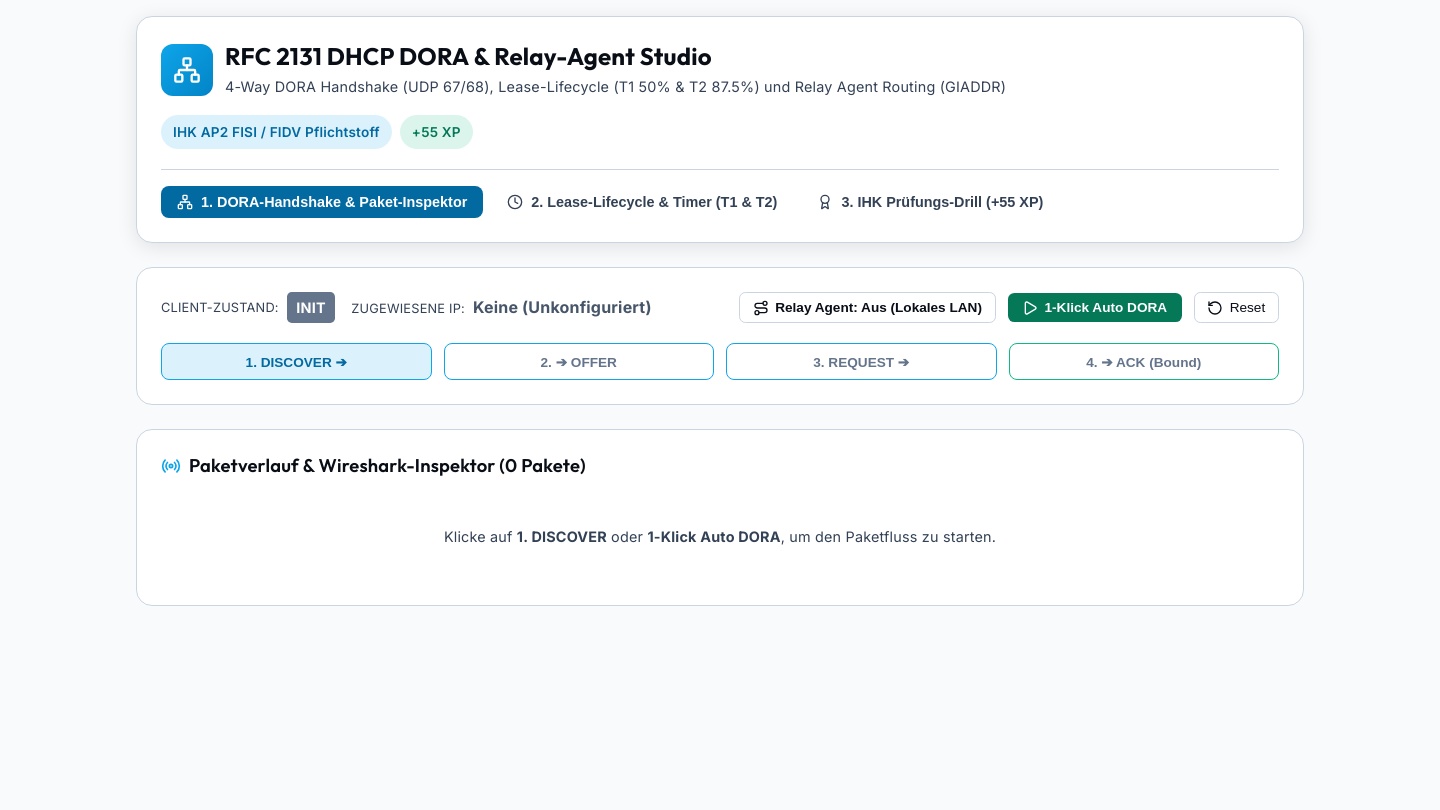
DhcpDoraLab: DORA-Handshake › vergibt mit aktivem Relay-Agent eine Adresse aus dem entfernten Subnetz
Click the button "Relay Agent: Aus (Lokales LAN)". click: (867, 308)
box: top-left (739, 292), bottom-right (996, 323)
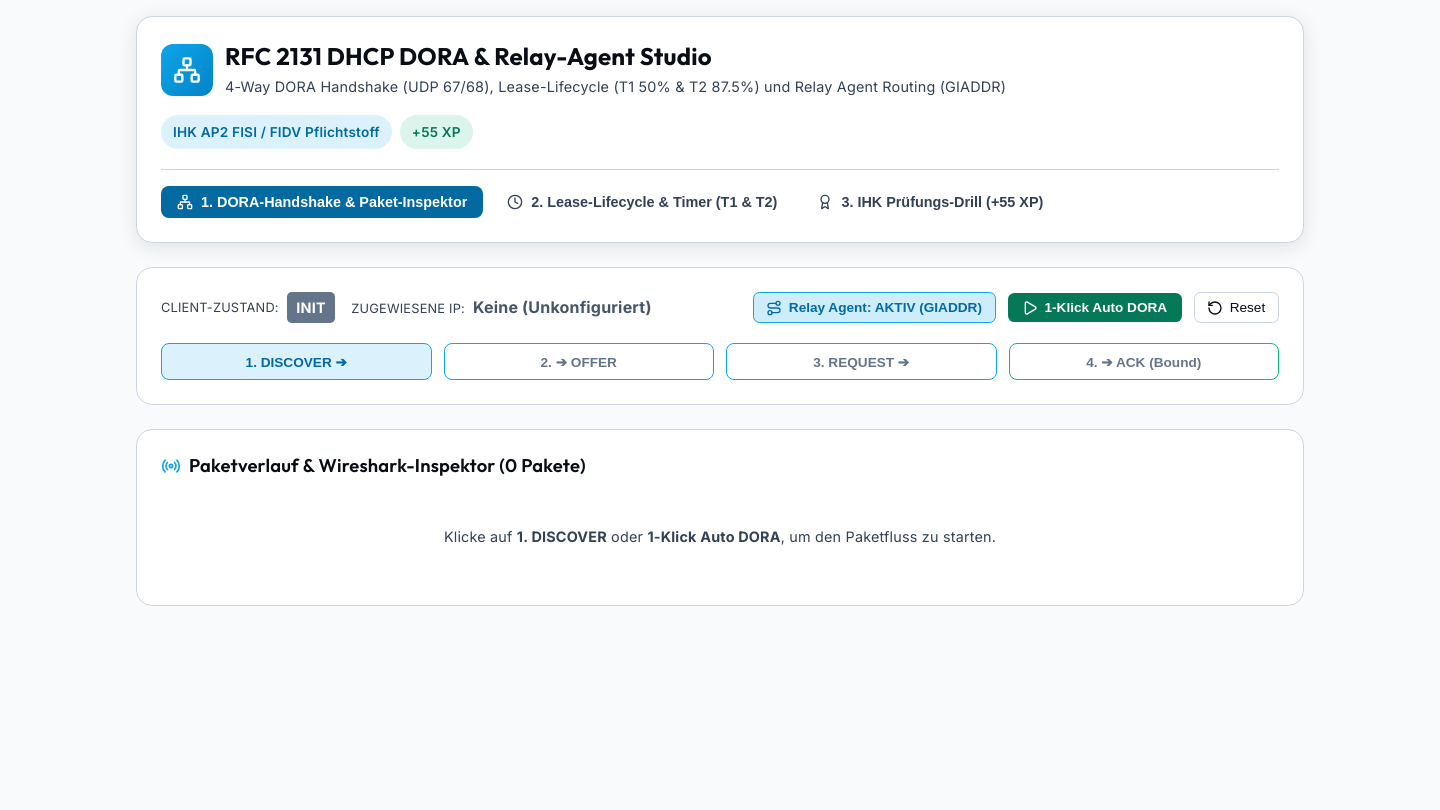
Expected: the button "Relay Agent: AKTIV (GIADDR)" is shown, top-left (753, 292), bottom-right (996, 323)
Click the button "1-Klick Auto DORA". click: (1095, 308)
box: top-left (1008, 293), bottom-right (1182, 322)
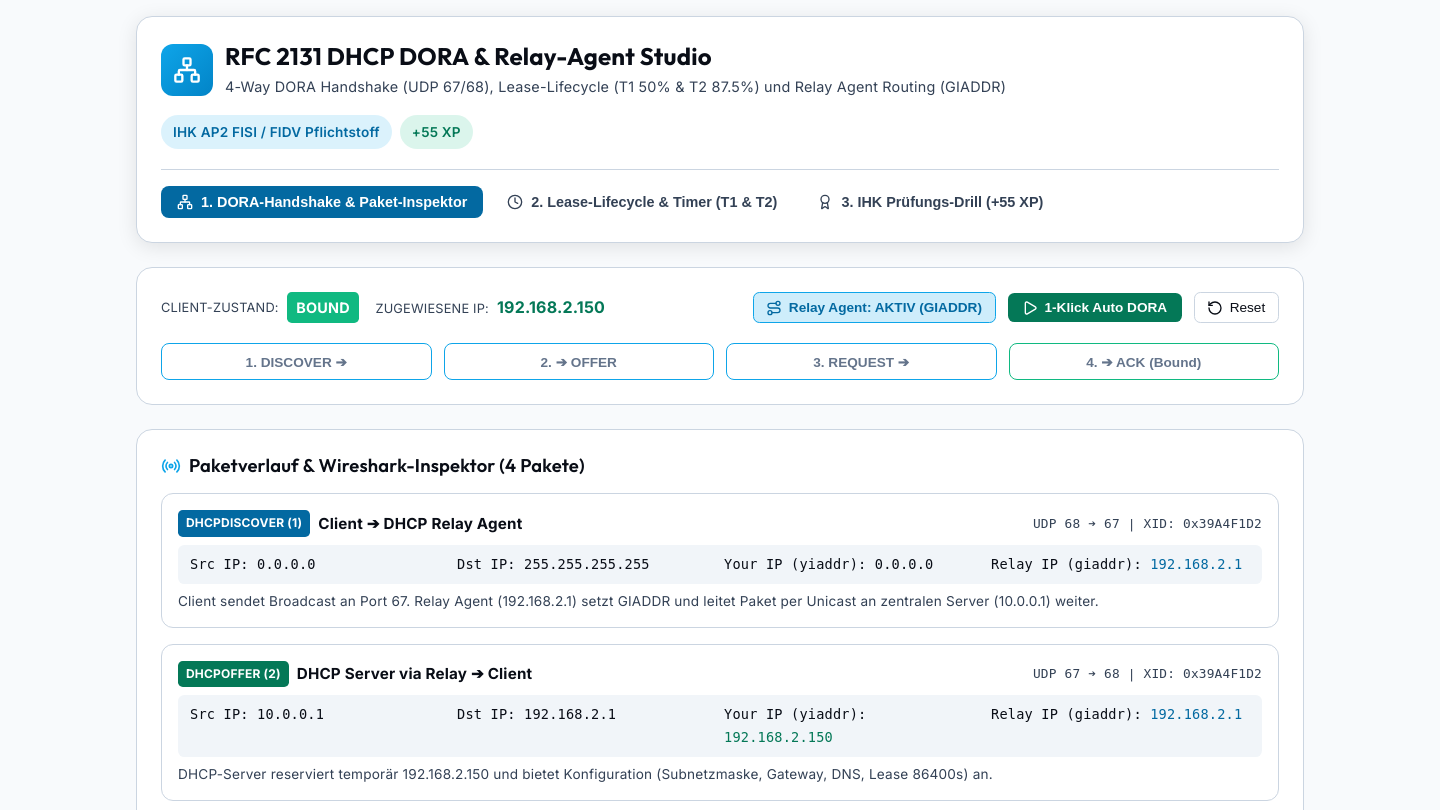
Expected: the 1st text "192.168.2.1" is shown, top-left (1150, 556), bottom-right (1242, 572)
